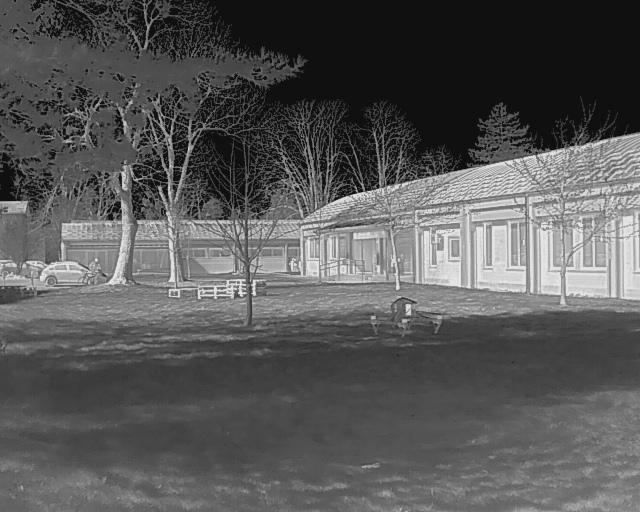drone: (351, 286, 458, 350)
